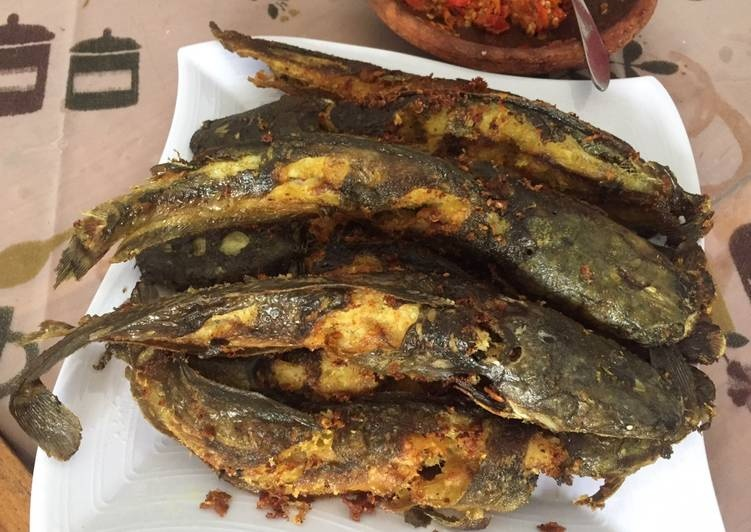pecel_lele: (32, 138, 699, 342), (212, 272, 679, 449)
